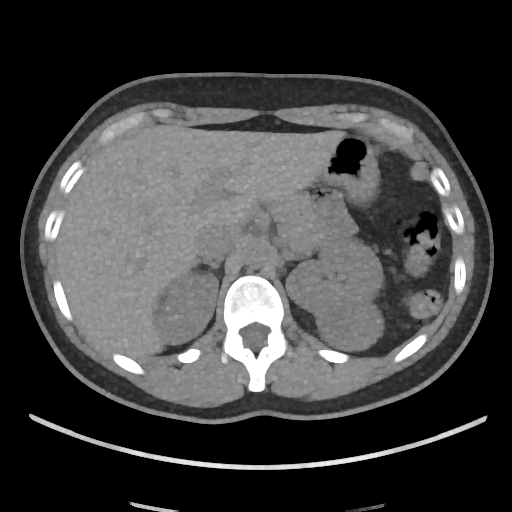Lesion: (312, 292, 388, 360)
